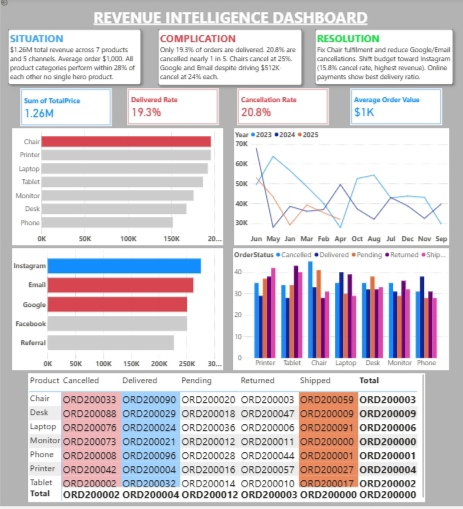

The page's visual inventory and layout, read from the dashboard file:
{"tool":"powerbi","page":{"name":"Page 1","canvas":[2200,2400],"ordinal":0},"visuals":[{"type":"cardVisual","fields":{"Data":["Sheet1.Total Revenue"]},"box":[994.8,261.5,249.5,114.2],"z":0},{"type":"textbox","box":[39.1,147.3,628.1,261.5],"z":1000},{"type":"textbox","box":[746.5,146.5,680.3,264.6],"z":2000},{"type":"textbox","box":[1487.7,147.3,652.2,261.5],"z":3000},{"type":"cardVisual","fields":{"Data":["Sum(Sheet1.TotalPrice)"]},"box":[93.2,423.8,432.8,180.3],"z":4000},{"type":"cardVisual","fields":{"Data":["Sheet1.Delivered Rate"]},"box":[601.1,426.8,432.8,174.3],"z":5000},{"type":"cardVisual","fields":{"Data":["Sheet1.Cancellation Rate"]},"box":[1121,423.8,432.8,174.3],"z":6000},{"type":"cardVisual","fields":{"Data":["Sheet1.Average Order Value"]},"box":[1653.5,425.2,434.6,174.8],"z":7000},{"type":"clusteredBarChart","title":"Sum of TotalPrice by Product","fields":{"Category":["Sheet1.Product"],"Y":["Sum(Sheet1.TotalPrice)"]},"box":[56.7,614.2,996.9,552.8],"z":8000},{"type":"lineChart","fields":{"Category":["Sheet1.Month"],"Y":["Sum(Sheet1.TotalPrice)"],"Series":["Sheet1.Year"]},"box":[1105.5,614.2,1015.7,552.8],"z":9000},{"type":"clusteredBarChart","fields":{"Category":["Sheet1.ReferralSource"],"Y":["Sum(Sheet1.TotalPrice)"]},"box":[56.7,1181.1,996.9,576.4],"z":10000},{"type":"clusteredColumnChart","fields":{"Category":["Sheet1.Product"],"Series":["Sheet1.OrderStatus"],"Y":["CountNonNull(Sheet1.OrderID)"]},"box":[1100.8,1181.1,1020.5,576.4],"z":11000},{"type":"pivotTable","fields":{"Rows":["Sheet1.Product"],"Columns":["Sheet1.OrderStatus"],"Values":["Min(Sheet1.OrderID)"]},"box":[132.3,1771.7,1875.6,609.4],"z":12000},{"type":"textbox","box":[37.8,33.1,2102.4,112],"z":13000},{"type":"actionButton","box":[0,0,100,40],"z":13001}]}

Visuals, with their boxes in screenshot pixels (x1, y1, x2, y2), scaled from the page's 2200x2400 canvas onto the 463x509 screenshot:
cardVisual - Sheet1.Total Revenue: detection(209, 55, 262, 80)
textbox: detection(8, 31, 140, 87)
textbox: detection(157, 31, 300, 87)
textbox: detection(313, 31, 450, 87)
cardVisual - Sum(Sheet1.TotalPrice): detection(20, 90, 111, 128)
cardVisual - Sheet1.Delivered Rate: detection(127, 91, 218, 127)
cardVisual - Sheet1.Cancellation Rate: detection(236, 90, 327, 127)
cardVisual - Sheet1.Average Order Value: detection(348, 90, 439, 127)
"Sum of TotalPrice by Product" clusteredBarChart: detection(12, 130, 222, 248)
lineChart - Sheet1.Month x Sum(Sheet1.TotalPrice): detection(233, 130, 446, 248)
clusteredBarChart - Sheet1.ReferralSource x Sum(Sheet1.TotalPrice): detection(12, 250, 222, 373)
clusteredColumnChart - Sheet1.Product x Sheet1.OrderStatus: detection(232, 250, 446, 373)
pivotTable - Sheet1.Product x Sheet1.OrderStatus: detection(28, 376, 423, 505)
textbox: detection(8, 7, 450, 31)
actionButton: detection(0, 0, 21, 8)
